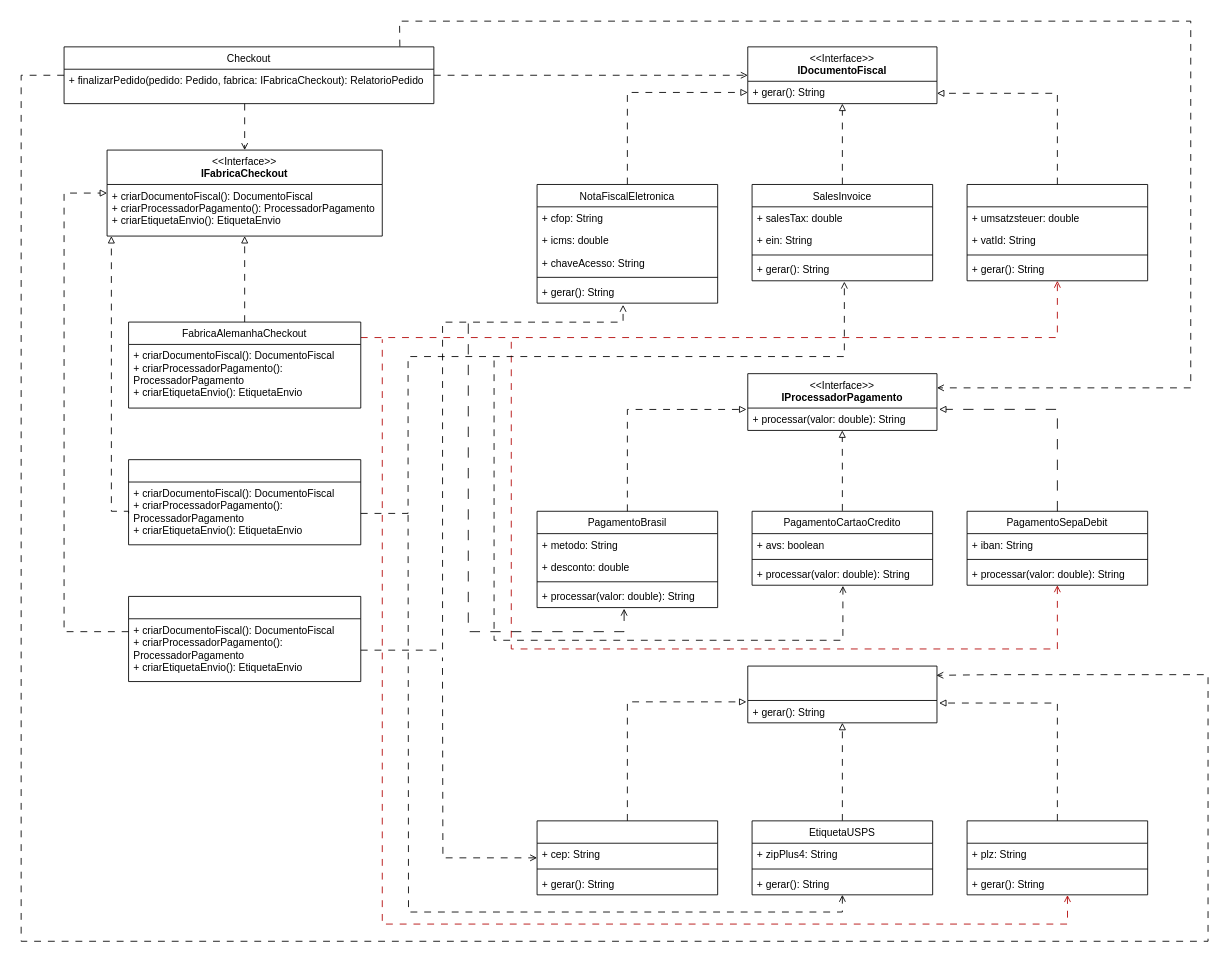
Image size: 1231x963. Some labels were removed from this diagram. Here are the shapes that lost their labels. From the top down, the box of each, then its label:
(966, 184, 1148, 281): VatInvoice
(128, 459, 361, 545): FabricaEstadosUnidosCheckout
(128, 596, 361, 682): FabricaBrasilCheckout
(747, 665, 937, 723): <<Interface>> EtiquetaEnvio
(536, 820, 718, 895): EtiquetaCorreios
(966, 820, 1148, 895): EtiquetaDeutschePost
